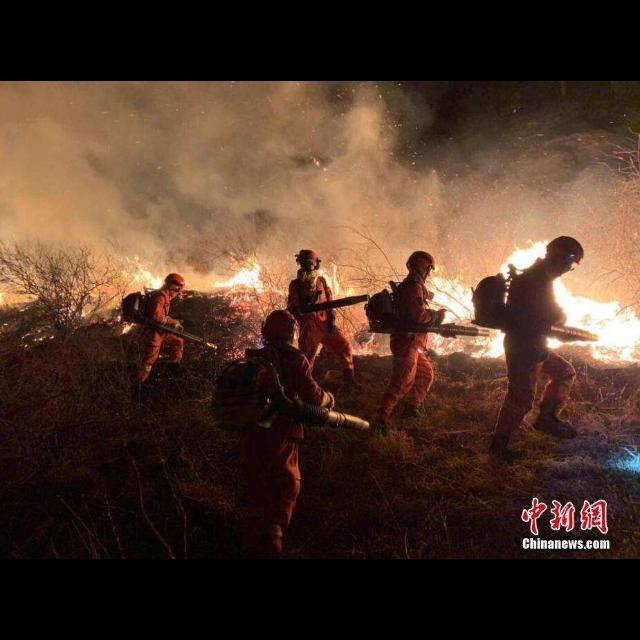Fire: (418, 240, 640, 364), (208, 256, 288, 364), (347, 317, 391, 358), (120, 254, 166, 290), (316, 262, 356, 300), (116, 315, 138, 335)
Smoke: (1, 82, 640, 306)
